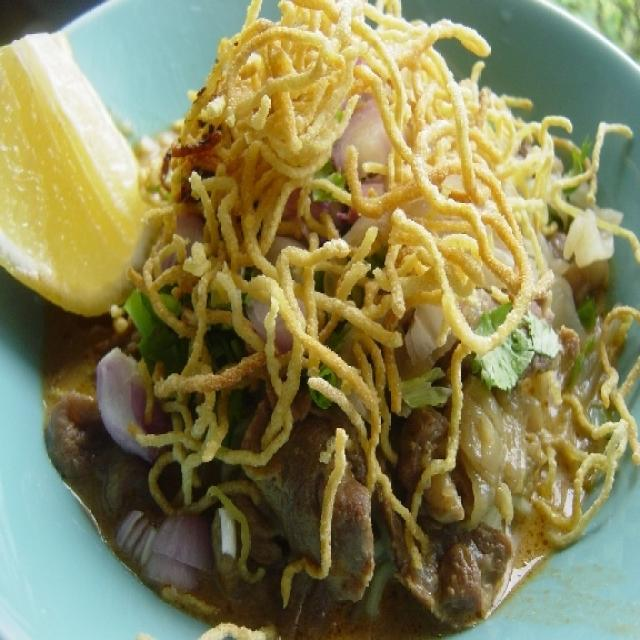面条主食: (25, 7, 626, 624)
